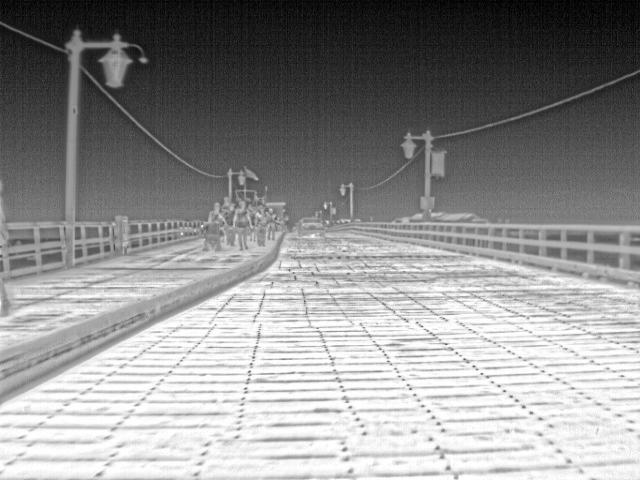car: (297, 218, 324, 236)
person: (233, 199, 255, 251), (219, 188, 234, 246), (254, 204, 270, 246), (266, 207, 282, 241), (205, 203, 229, 224)
